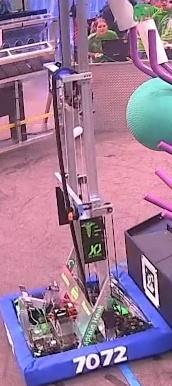blue_number: (69, 343, 132, 379)
